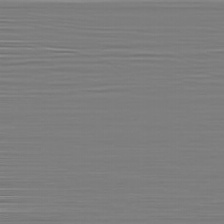cavities: (36, 64, 102, 129)
